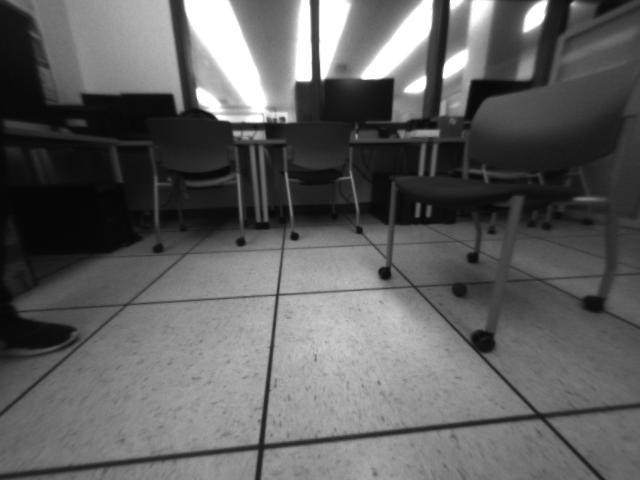dogtoy: (446, 274, 476, 304)
